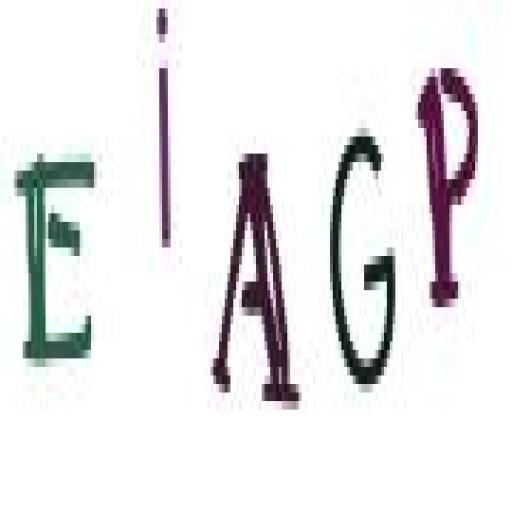A: (210, 133, 303, 427)
E: (12, 136, 102, 378)
G: (321, 118, 398, 404)
P: (414, 56, 480, 325)
i: (147, 1, 178, 258)
